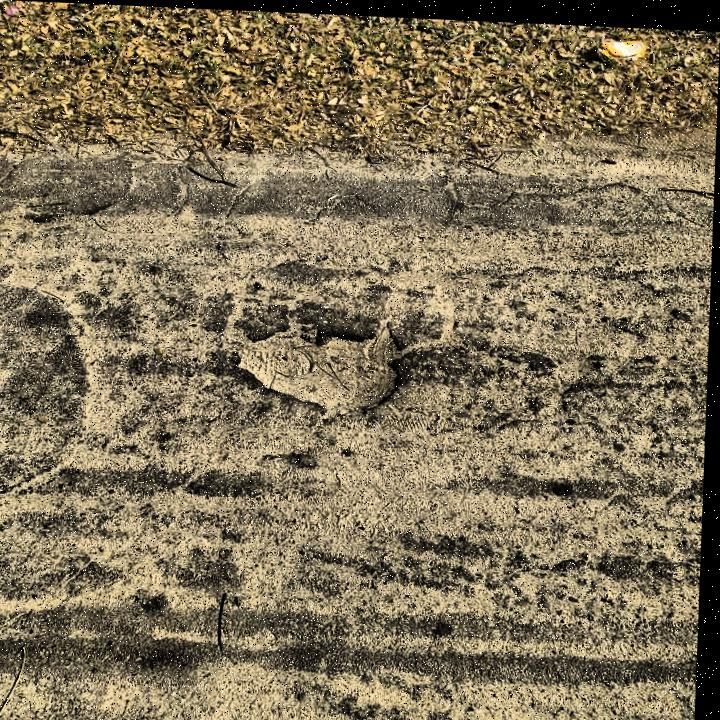pothole: (232, 307, 412, 411)
